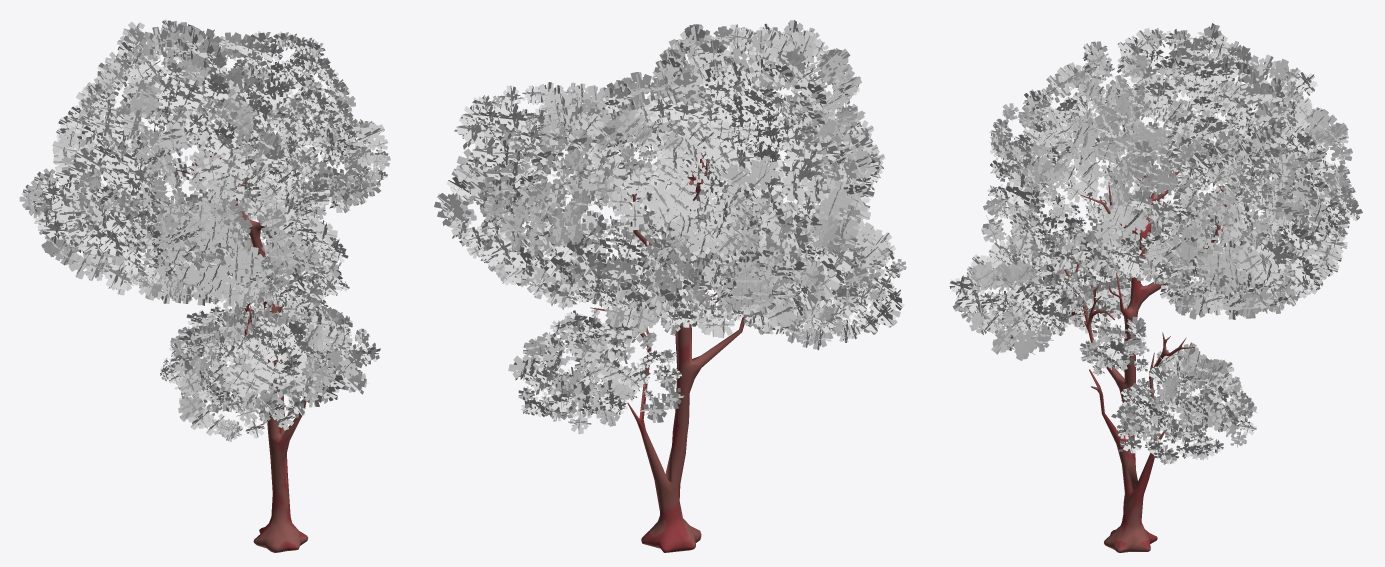
The model's file is Tree 1.fbx.
3 renders of one model, left to right at view 1: azimuth 30°, elevation 25°; view 2: azimuth 150°, elevation 25°; view 3: azimuth 270°, elevation 25°, orthographic. The views are drawn at different scales.
Visible parts, largest first — view 1: Leaves 3.001, Leaves 3.002, Trunk; view 2: Leaves 3.001, Leaves 3.002, Trunk; view 3: Leaves 3.001, Leaves 3.002, Trunk.
Boxes of the visible parts, x1,y1,x2,y2 form: Leaves 3.001: (19,19,390,441); Leaves 3.002: (49,55,369,413); Trunk: (176,150,308,552); Leaves 3.001: (434,20,906,434); Leaves 3.002: (479,47,886,408); Trunk: (590,147,813,552); Leaves 3.001: (949,23,1362,464); Leaves 3.002: (979,57,1329,432); Trunk: (1064,170,1237,552).
Bounding box in the file's own units: 287 × 409 × 323.
